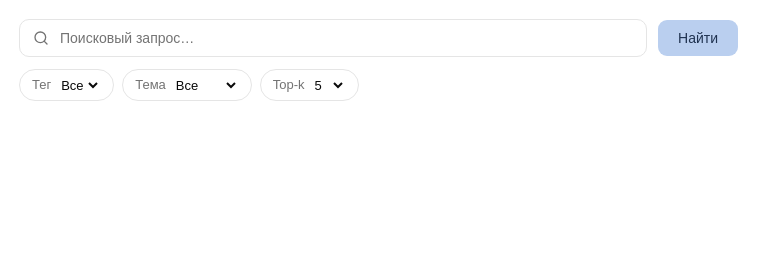
Test: бейдж element_type для таблиц
Type "таблица" into the field with placeholder "Поисковый запрос…" at (333, 38), box [19,19,647,57]
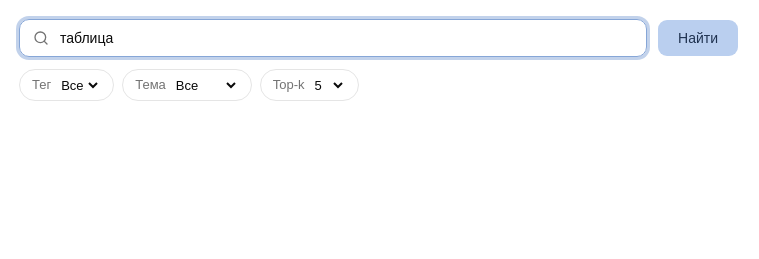
Click the button "Найти" at (698, 38), box [657,19,739,57]
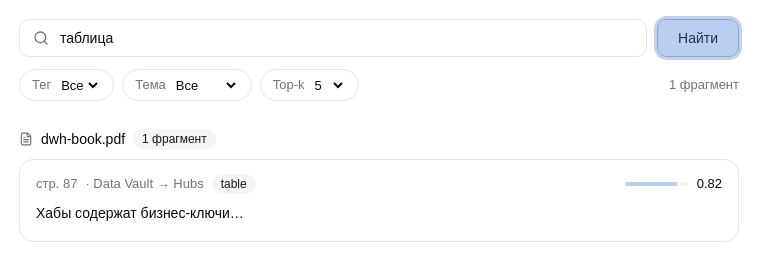
expect the icon "table" is shown: met, box [212,174,256,194]
